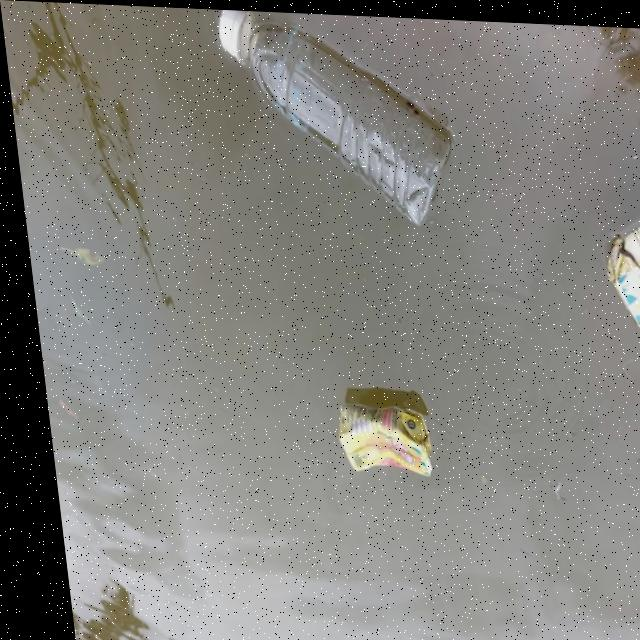paper: (325, 378, 426, 488), (577, 188, 640, 322)
waterbottle: (198, 7, 469, 224)
